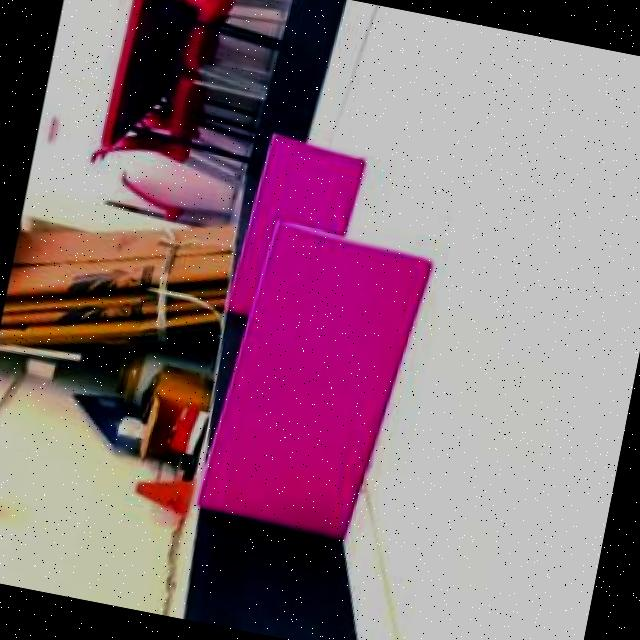xparking: (224, 227, 424, 538), (255, 138, 358, 228)
